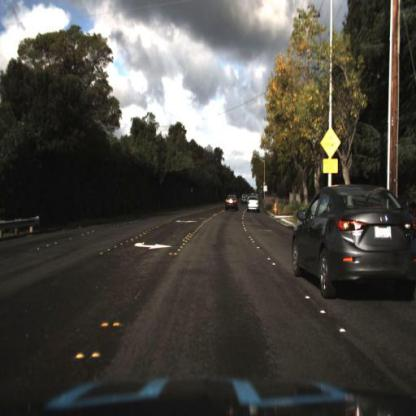car: (289, 178, 414, 297), (225, 191, 239, 213), (247, 194, 261, 215)
